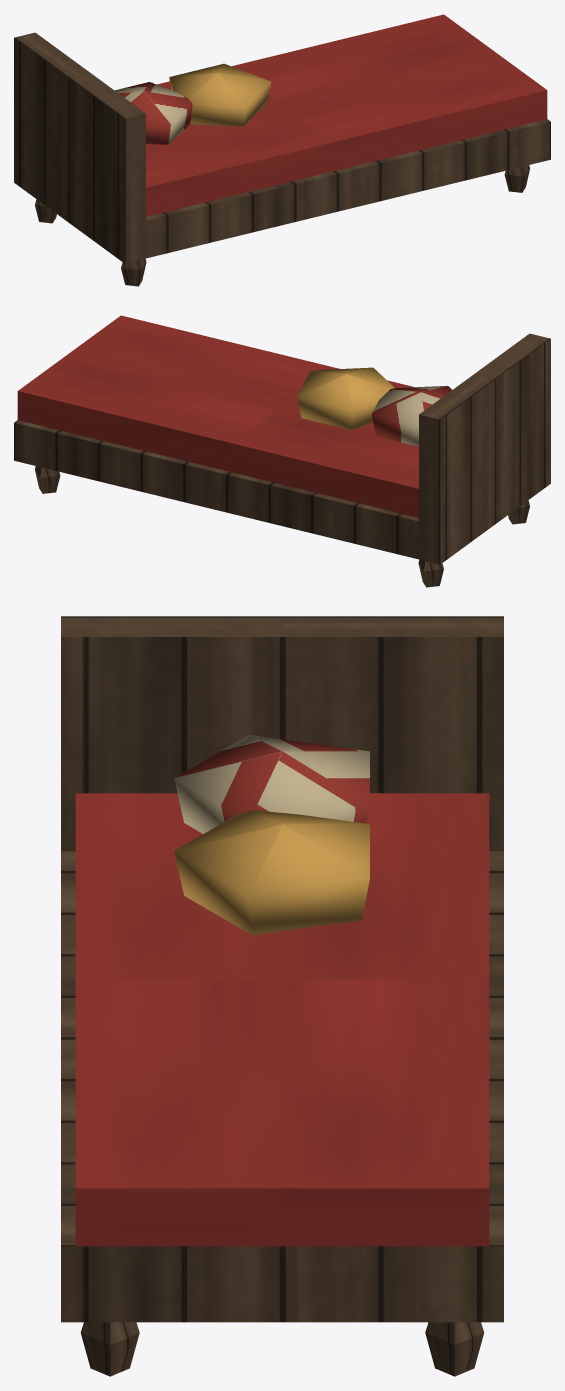
File: Daybed_1_LOD1.gltf
3 views of the same model, one above another, from view 1: azimuth 30°, elevation 25°; view 2: azimuth 150°, elevation 25°; view 3: azimuth 270°, elevation 25° (orthographic). The views are drawn at different scales.
Visible parts, largest first — view 1: Daybed_1_LOD1; view 2: Daybed_1_LOD1; view 3: Daybed_1_LOD1.
Boxes of the visible parts, bbox=[...] form: Daybed_1_LOD1: bbox=[14, 14, 550, 286]; Daybed_1_LOD1: bbox=[14, 315, 550, 587]; Daybed_1_LOD1: bbox=[61, 616, 503, 1376].
Size of the model in its own units: 2 by 0.8 by 0.9.
4 materials, 4 textured.
